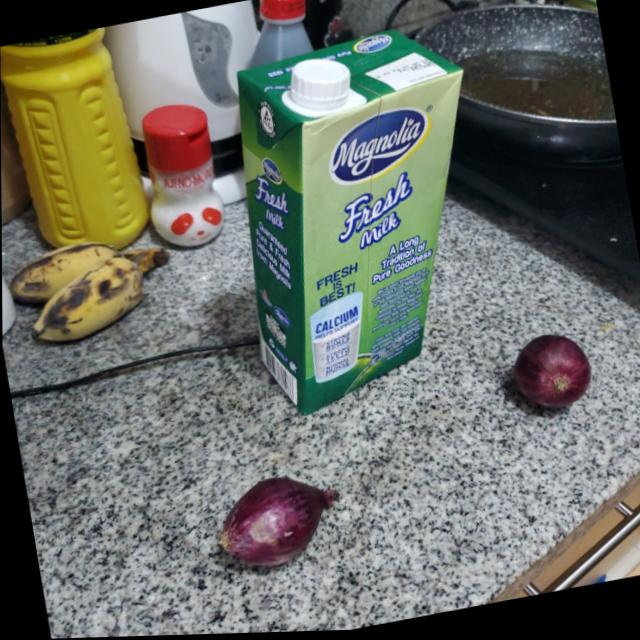milk: (205, 19, 516, 418)
onion: (205, 466, 344, 579), (507, 331, 597, 421)
